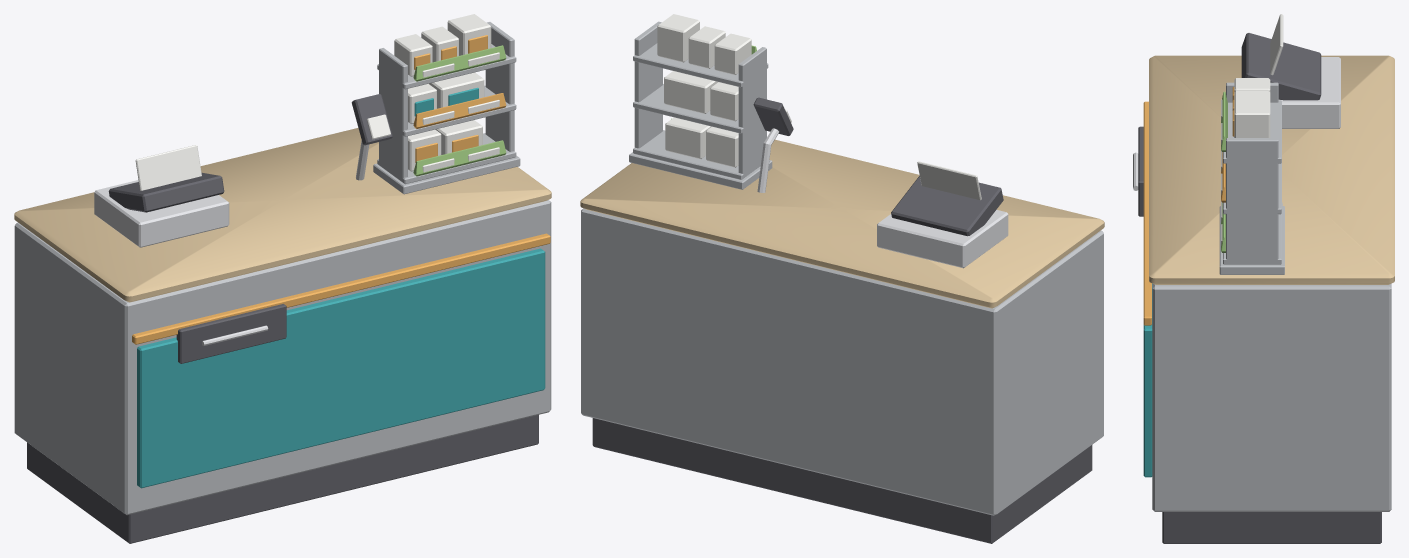
The model's file is pet-shop-and-grooming-salon-till-counter-9b1e1036__34577.glb.
3 renders of one model, left to right at view 1: azimuth 30°, elevation 25°; view 2: azimuth 150°, elevation 25°; view 3: azimuth 270°, elevation 25°, orthographic. The views are drawn at different scales.
Parts seen in each view (by area): view 1: till-counter, till-drawer/dark; view 2: till-counter; view 3: till-counter, till-drawer/dark.
Boxes of the visible parts, <box> form: till-counter: <box>14,14,551,543</box>; till-drawer/dark: <box>176,304,286,363</box>; till-counter: <box>580,14,1104,543</box>; till-counter: <box>1143,14,1394,543</box>; till-drawer/dark: <box>1138,126,1143,216</box>.
Bounding box in the file's own units: 1.6 × 1.43 × 0.799.
